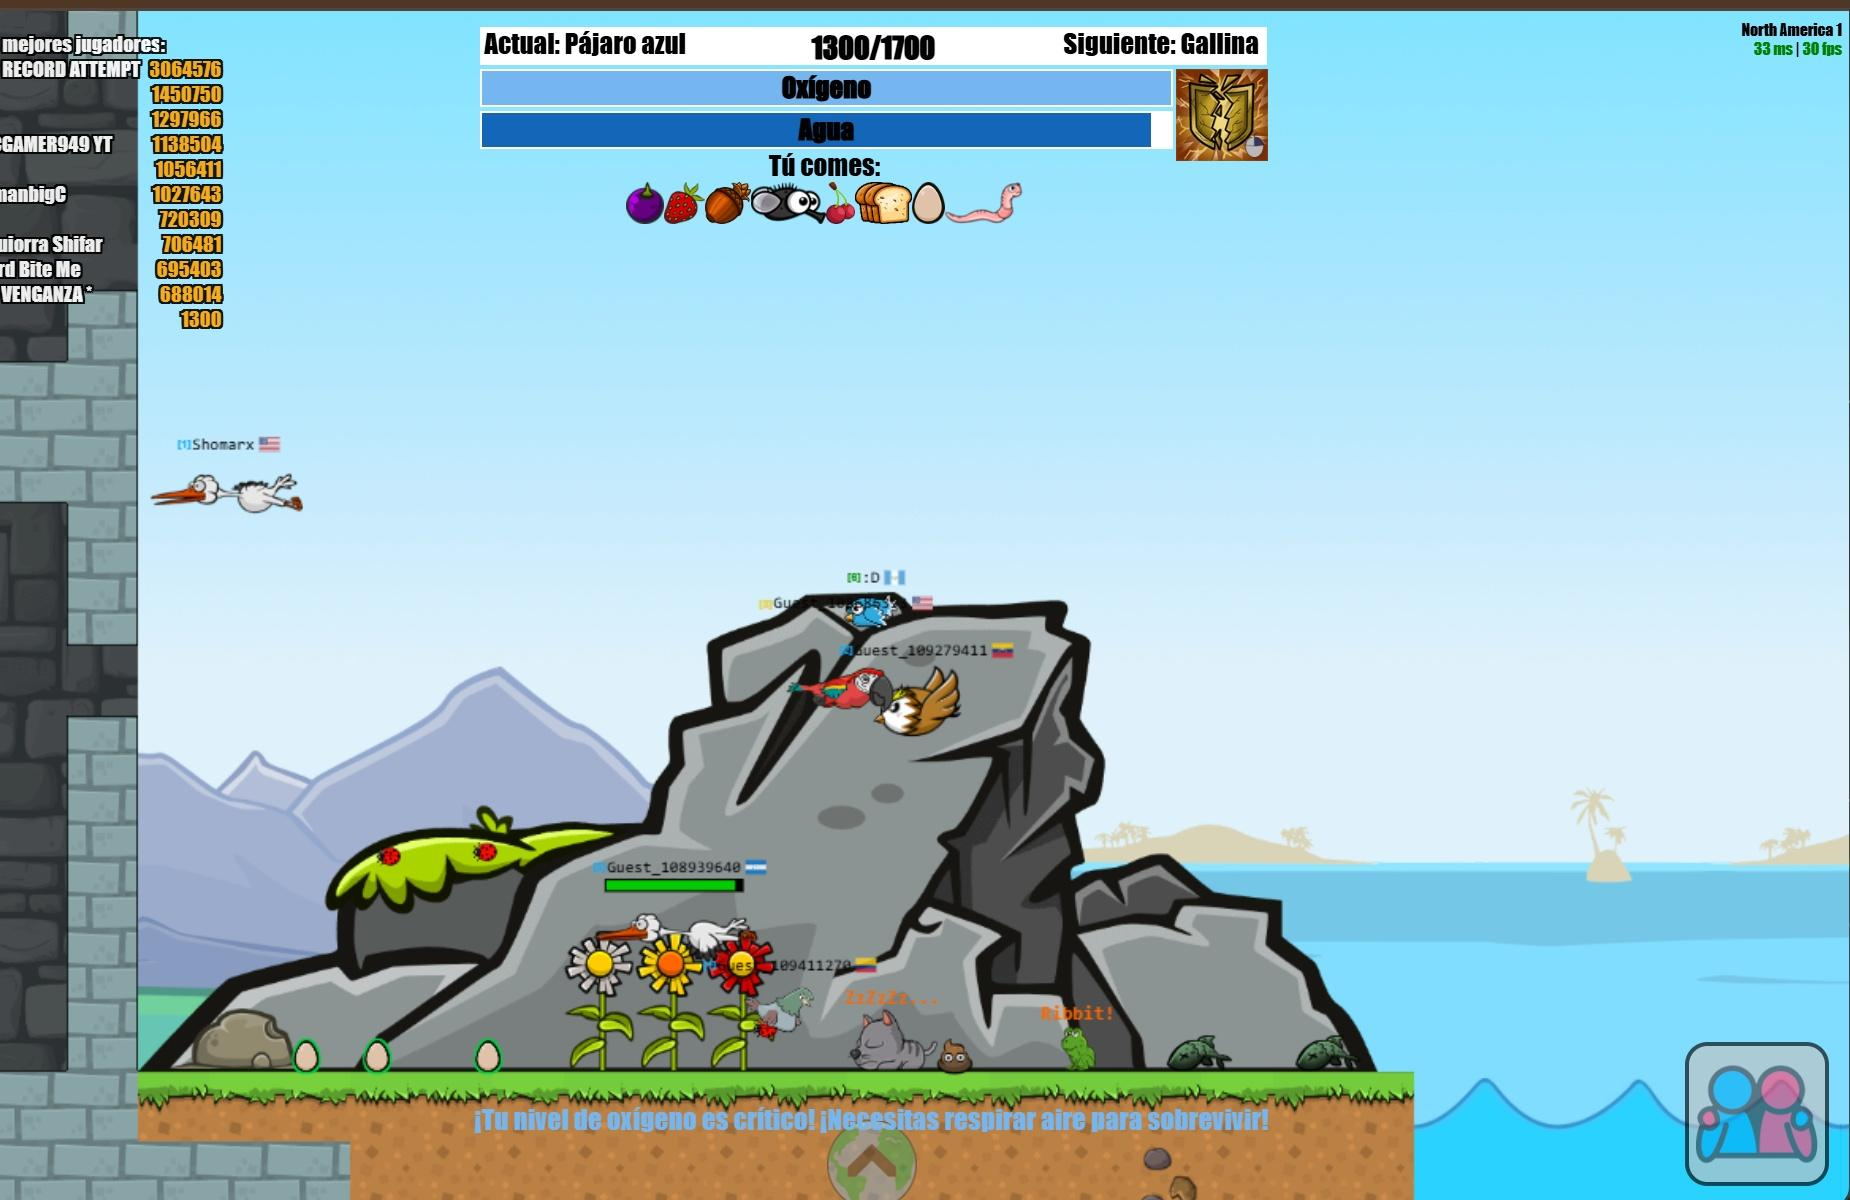arandano: (625, 183, 664, 223)
avellana: (705, 182, 750, 224)
buho: (876, 667, 958, 734)
ciguenia: (594, 913, 756, 954), (152, 474, 302, 513), (937, 1039, 971, 1073)
flor: (566, 932, 633, 998), (708, 929, 774, 996), (639, 932, 702, 999)
fresa: (664, 185, 703, 223)
gato: (850, 1009, 935, 1070)
guinda: (824, 181, 854, 223)
gusano: (946, 182, 1021, 222)
huevo: (912, 183, 944, 223), (360, 1038, 391, 1072), (473, 1037, 503, 1072), (292, 1038, 320, 1071)
loro: (791, 667, 894, 710)
mariquita: (749, 1021, 777, 1040)
mosca: (751, 184, 823, 221)
p_azul: (845, 593, 902, 630)
paloma: (757, 986, 813, 1032)
pan: (855, 182, 912, 224)
pescado: (1295, 1035, 1359, 1070), (1167, 1035, 1229, 1070)
rana: (1061, 1027, 1095, 1067)
